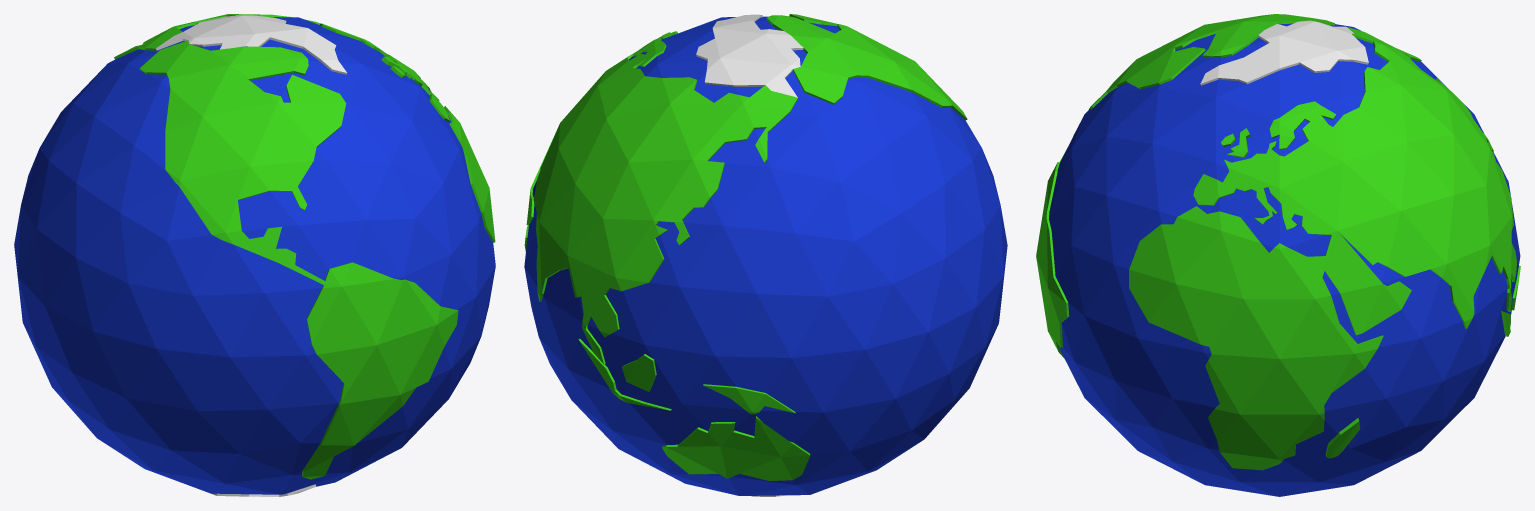
The model's file is earth.gltf.
The picture shows the model from 3 angles, left to right: view 1: azimuth 30°, elevation 25°; view 2: azimuth 150°, elevation 25°; view 3: azimuth 270°, elevation 25°; orthographic projection.
Visible parts, largest first — view 1: Icosphere.001; view 2: Icosphere.001; view 3: Icosphere.001.
Boxes of the visible parts, x1=… form: Icosphere.001: x1=14, y1=14, x2=495, y2=496; Icosphere.001: x1=524, y1=14, x2=1007, y2=496; Icosphere.001: x1=1036, y1=14, x2=1520, y2=496.
Size of the model in its own units: 2.01 by 2.02 by 2.01.
